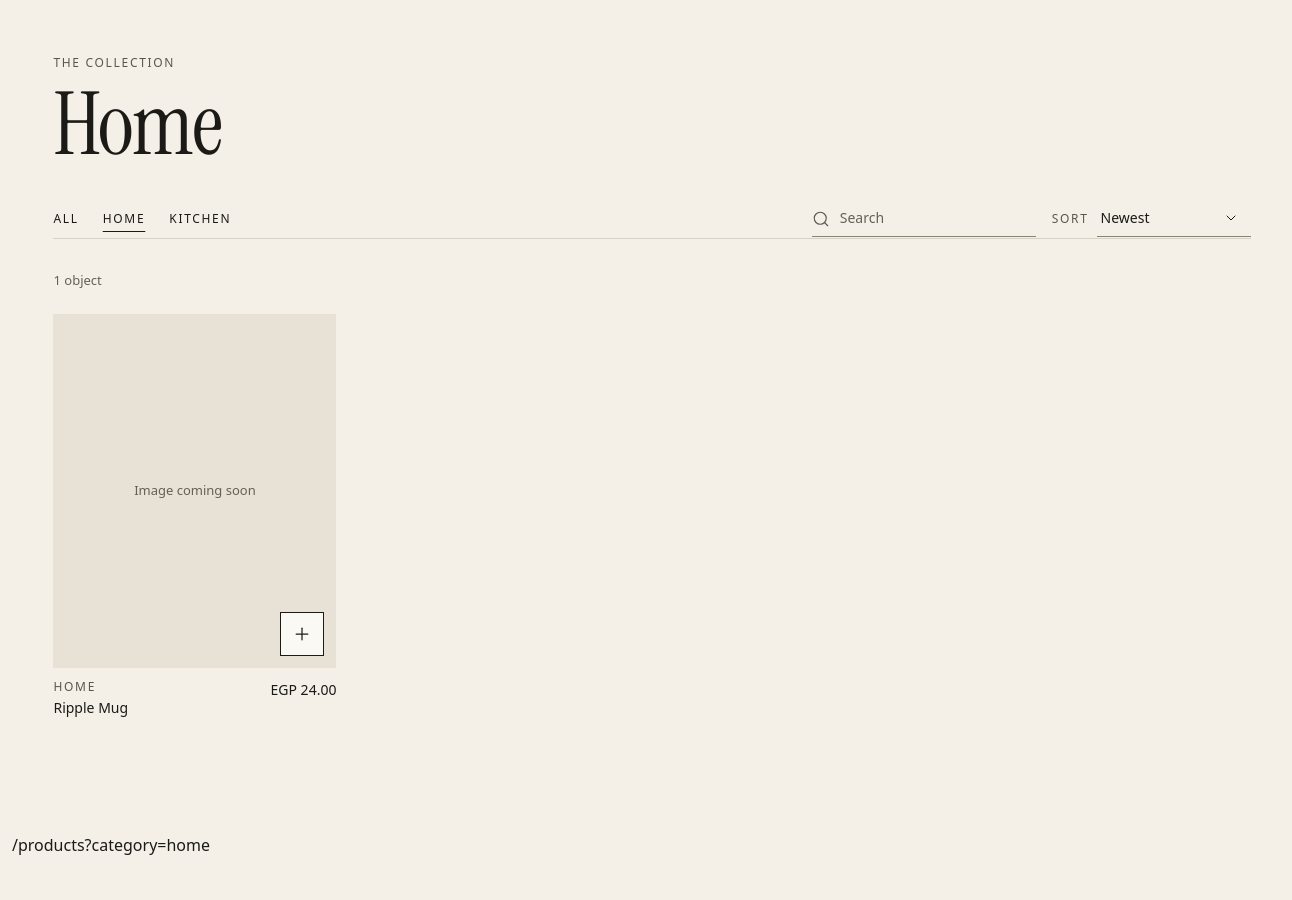
Scenario: ProductsPage › announces how many objects match: 1 object in Home, 2 objects in the whole collection
Click the link "All" at (66, 218), box [53, 210, 79, 227]
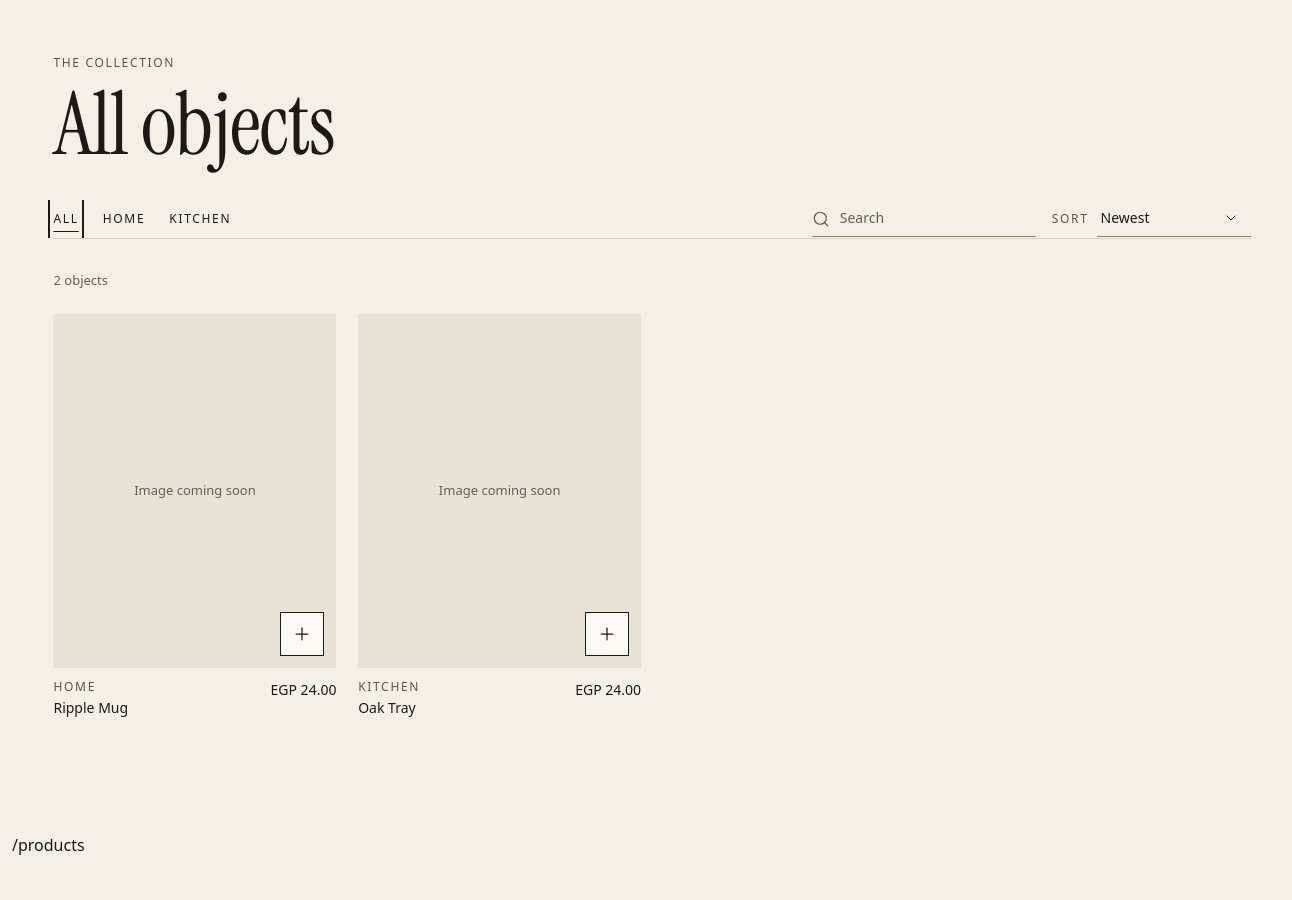
Check: the text "2 objects" is shown, box [53, 271, 108, 289]
